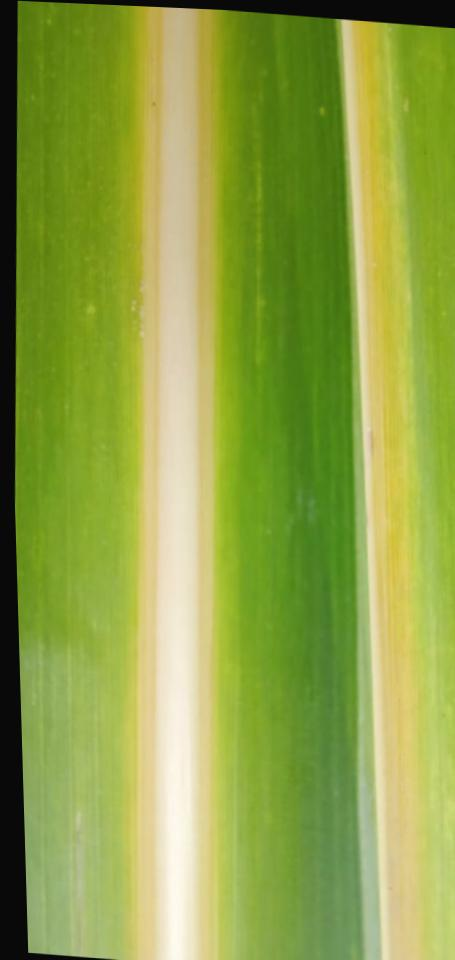Yellow: (116, 6, 244, 960), (337, 19, 432, 960)
